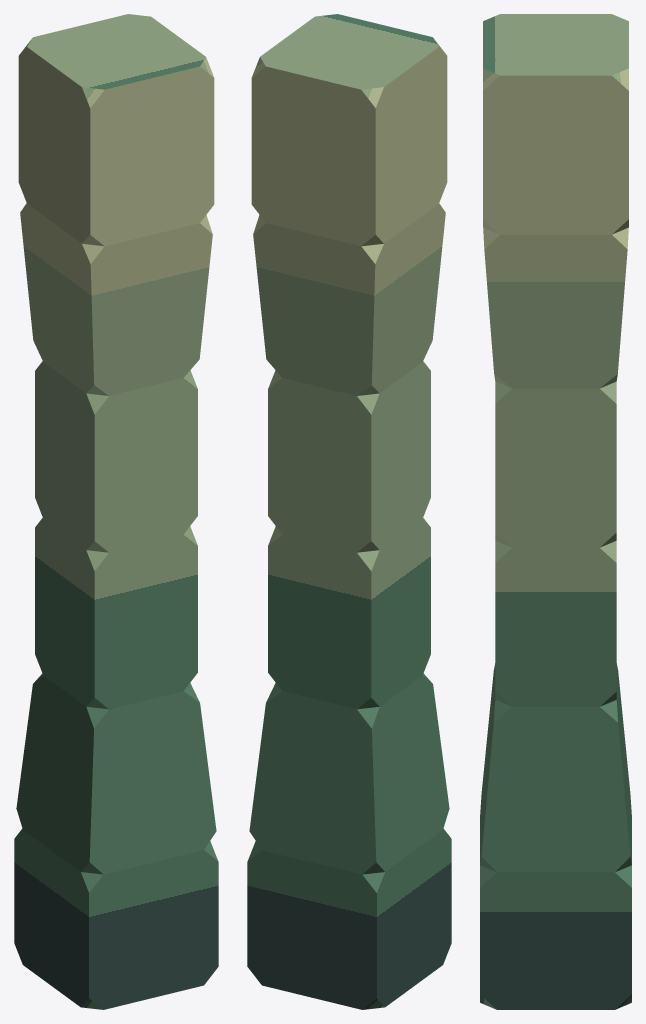
Rendered from Pillar 1.003.fbx.
3 views of the same model, side by side, from view 1: azimuth 30°, elevation 25°; view 2: azimuth 150°, elevation 25°; view 3: azimuth 270°, elevation 25° (orthographic).
Visible parts, largest first — view 1: Pillar 1.003; view 2: Pillar 1.003; view 3: Pillar 1.003.
Part boxes in pixels (left/top/right/bottom): Pillar 1.003: left=14, top=14, right=218, bottom=1009; Pillar 1.003: left=247, top=14, right=451, bottom=1009; Pillar 1.003: left=480, top=14, right=631, bottom=1009.
Size of the model in its own units: 86.44 by 586 by 86.44.
